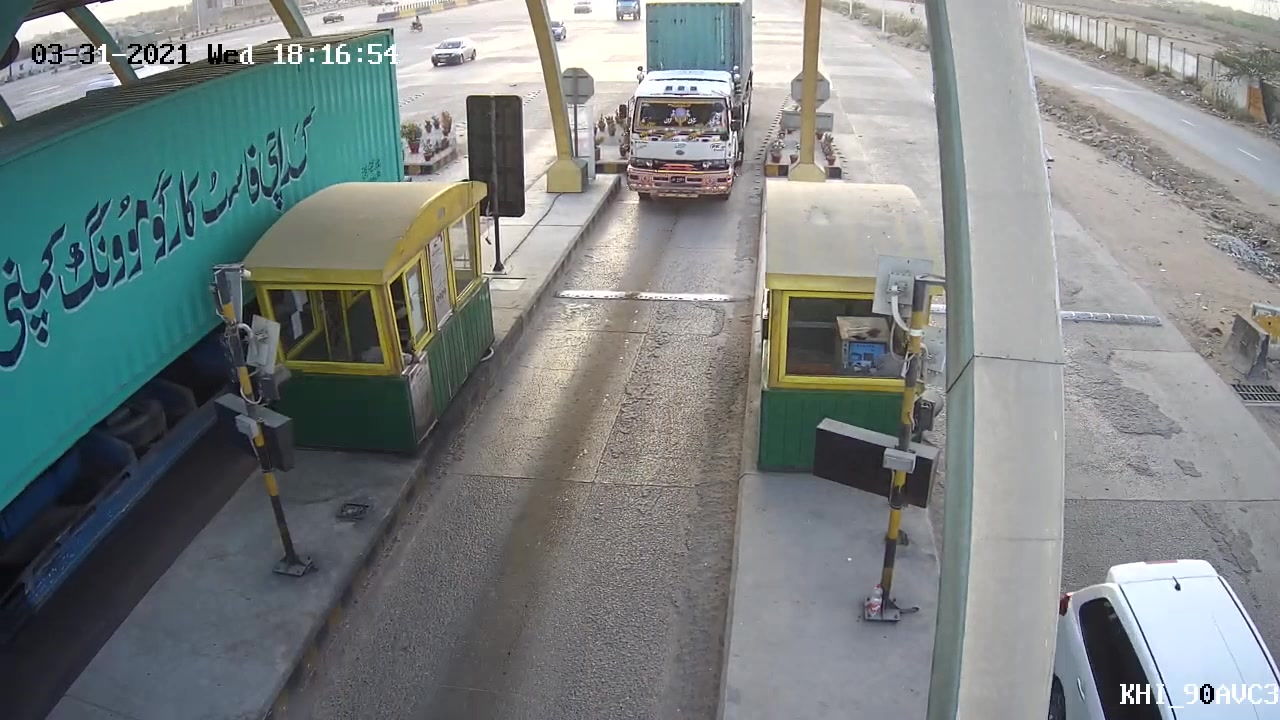F6: (616, 32, 747, 215)
